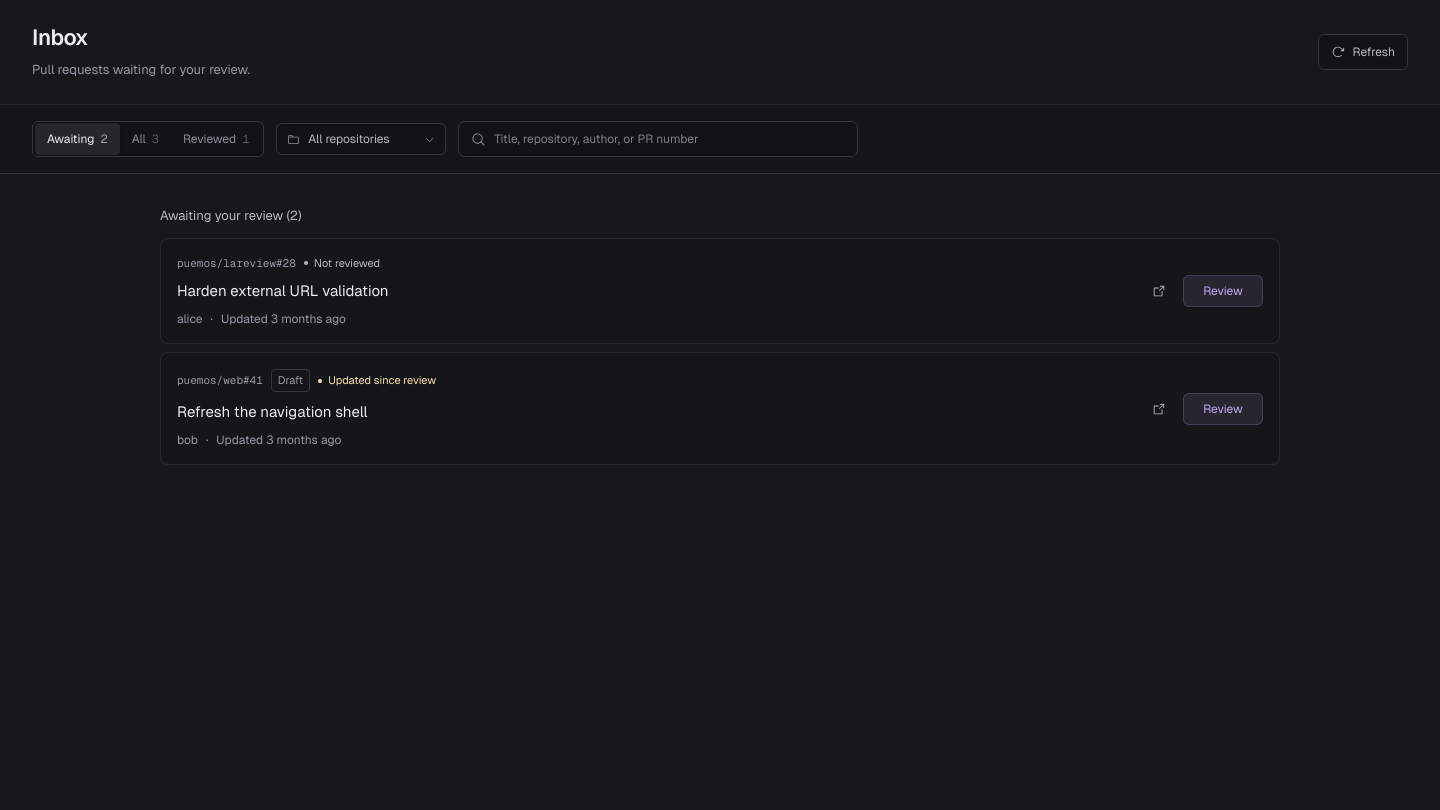
Test: InboxView › focuses on awaiting requests by default and can reveal reviewed work
Expected: the text "Harden external URL validation" is shown, [177,281,388,300]
Expected: the text "Refresh the navigation shell" is shown, [177,402,368,421]
Click the button with aria-label "All (3)": (145, 139) [120,123,171,155]
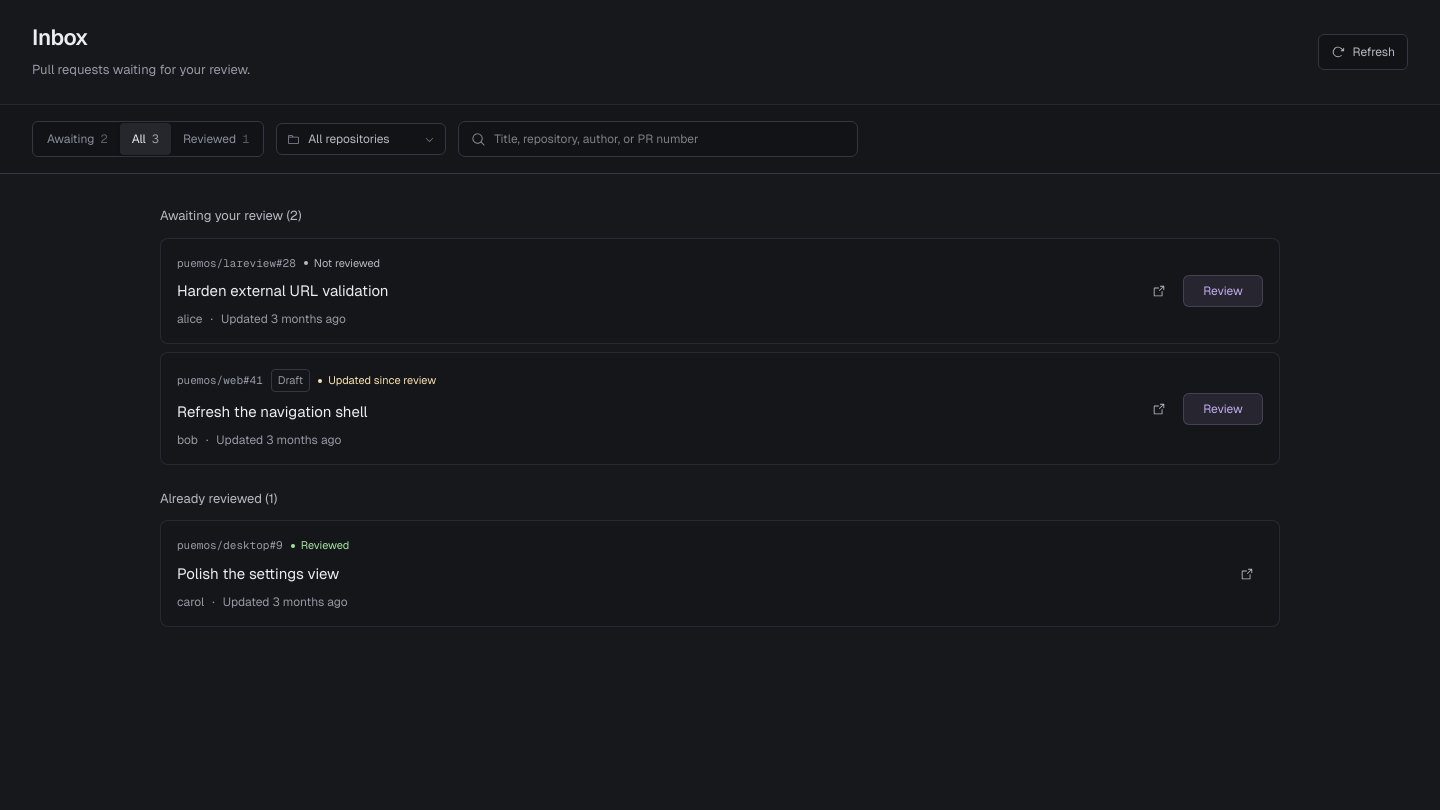
Result: the text "Polish the settings view" is shown at [177,564,339,583]
